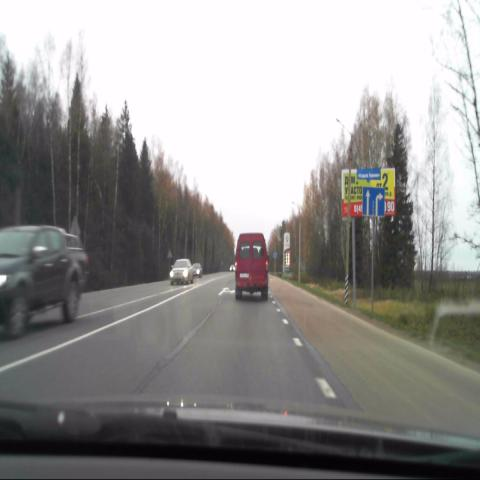5_15_2_2: (362, 186, 385, 218)
